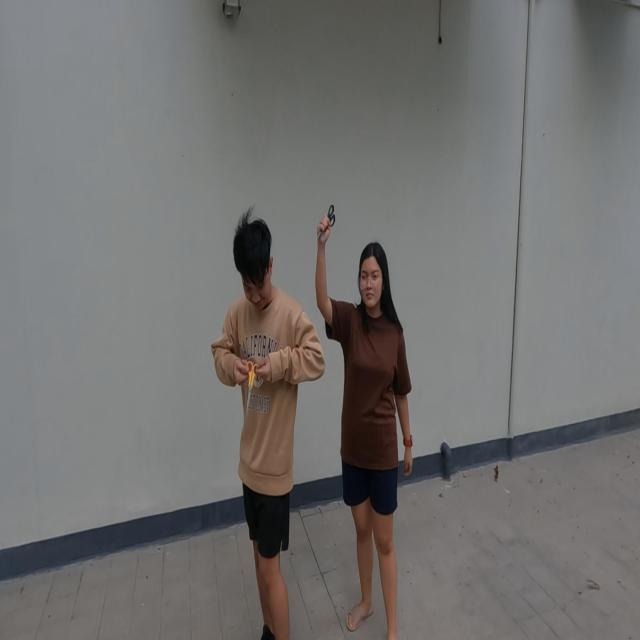scissor: (245, 359, 260, 417), (316, 203, 336, 242)
